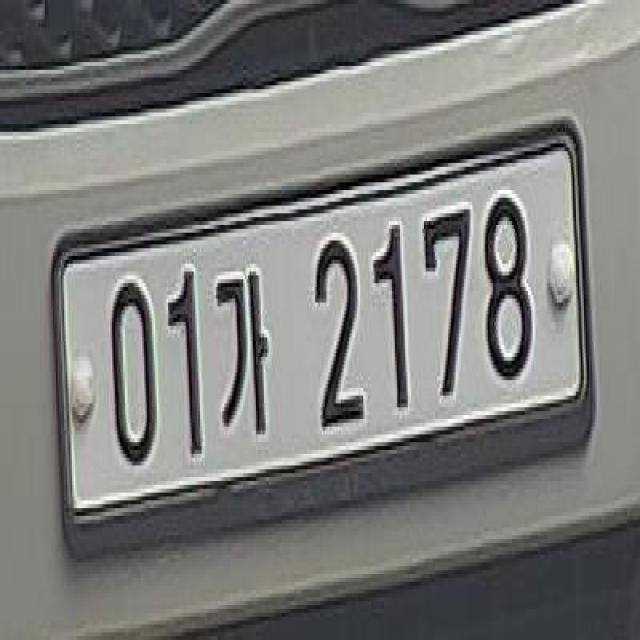illegal_plate: (51, 115, 604, 572)
